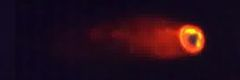keyhole: (186, 32, 201, 46)
